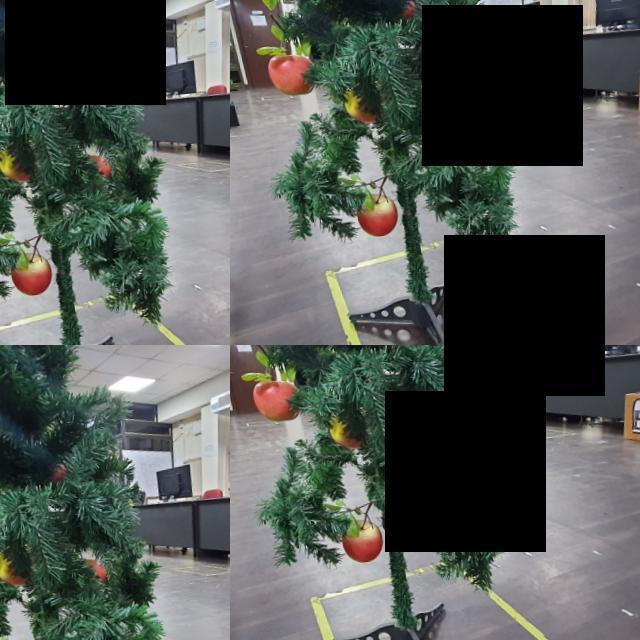tree: (230, 0, 536, 345), (230, 345, 521, 640), (0, 0, 230, 345), (0, 340, 163, 640)
